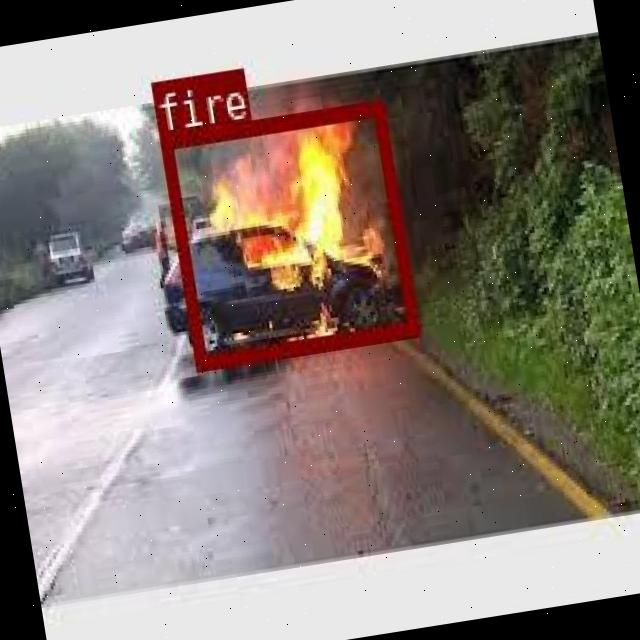fire: (158, 99, 417, 368)
